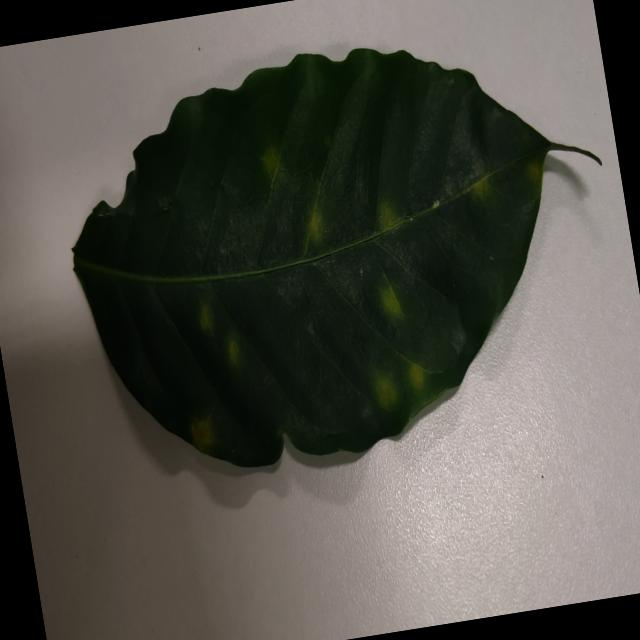KaratDaunKopi: (189, 417, 215, 454), (378, 199, 402, 229), (376, 376, 397, 409), (381, 284, 402, 317), (262, 146, 280, 179), (526, 158, 544, 187), (308, 206, 322, 243), (408, 363, 426, 390), (199, 302, 214, 332), (228, 338, 239, 366), (474, 177, 489, 197)
